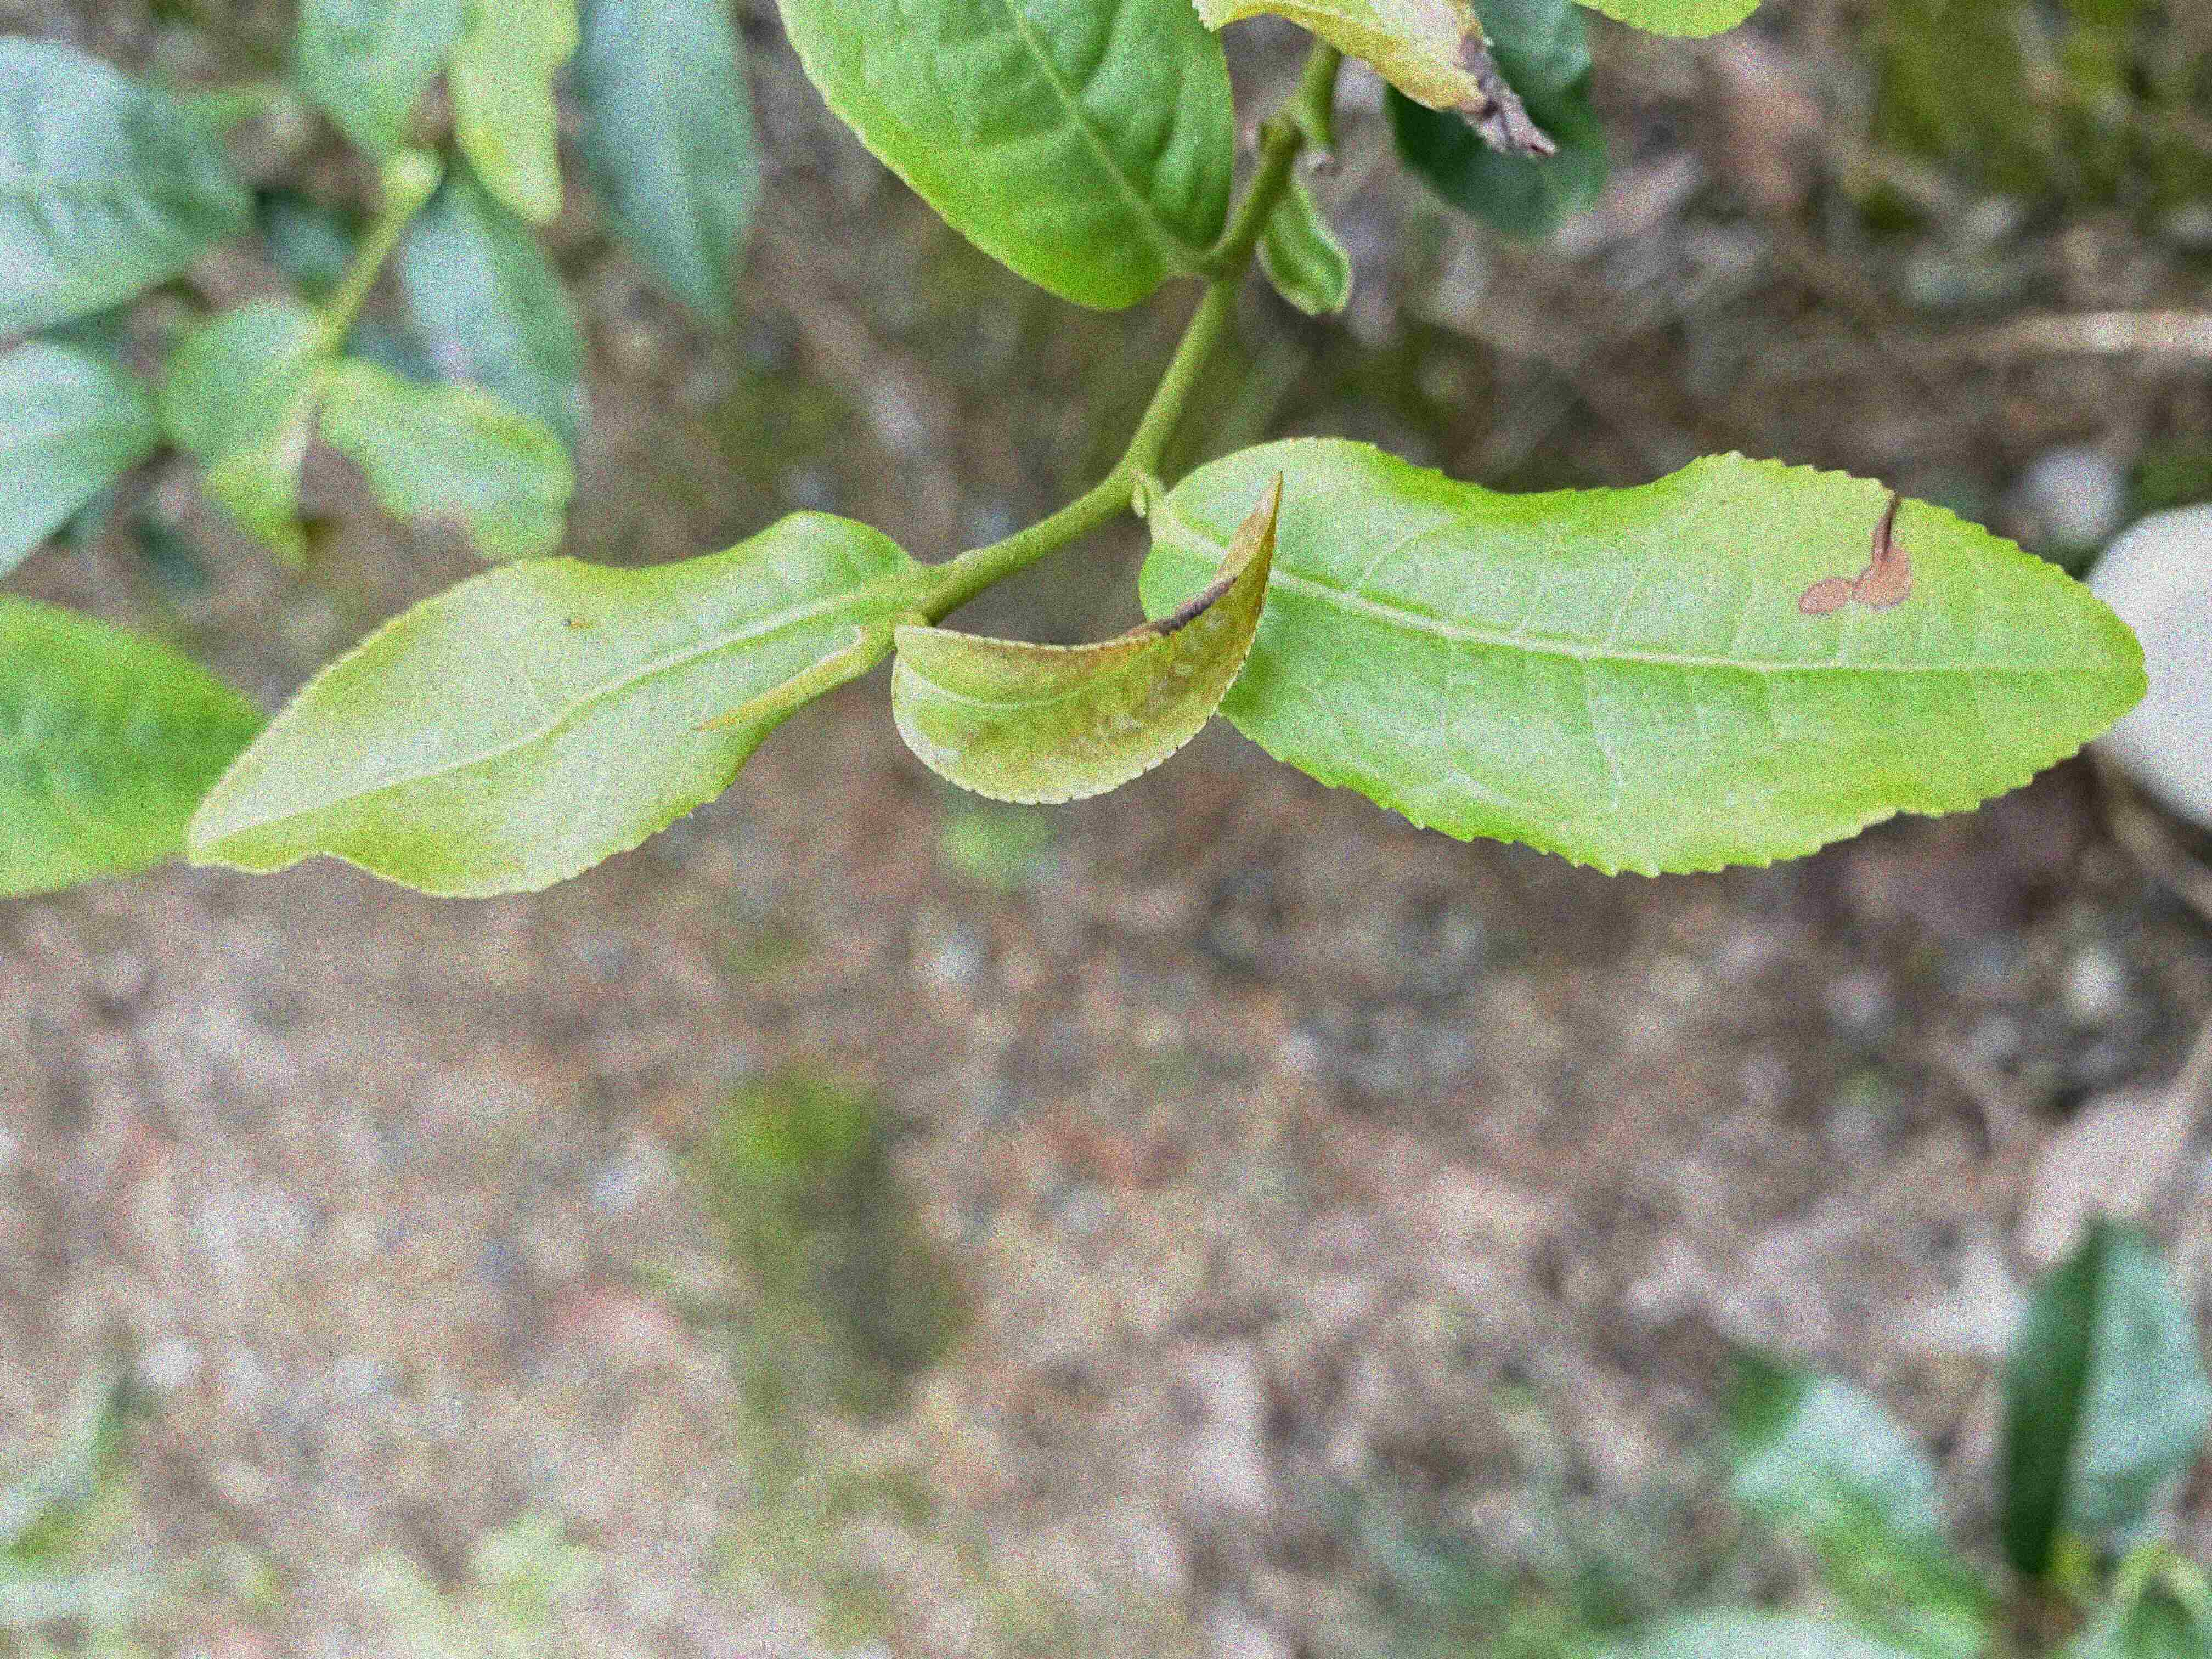tanju_high: (1137, 429, 2149, 880), (1186, 3, 1562, 162)
tanju_low: (183, 504, 894, 903), (892, 469, 1285, 809)
